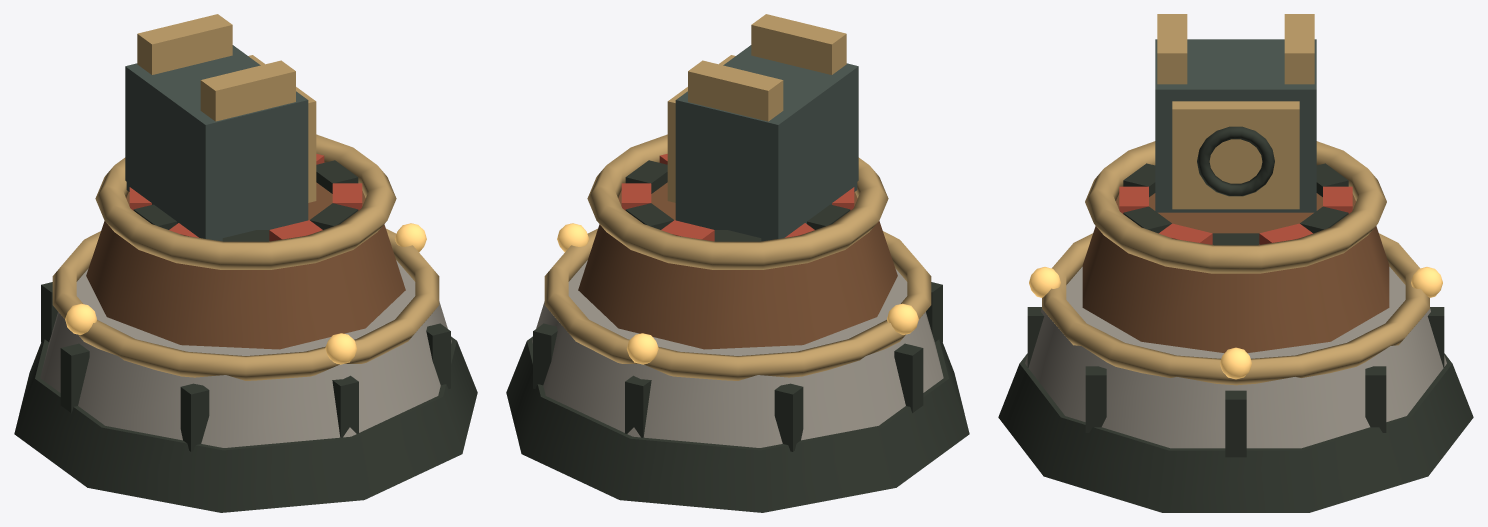
The model's file is tower_gamble_gambleBank.glb.
The picture shows the model from 3 angles, left to right: view 1: azimuth 30°, elevation 25°; view 2: azimuth 150°, elevation 25°; view 3: azimuth 270°, elevation 25°; orthographic projection.
Visible parts, largest first — view 1: foot_0, stone_1, table_15, vault_29, rim_2, roulette_rim_16, vault_crown_32, vault_crown_33, mortar_6, mortar_7, mortar_5, mortar_4 (+10 smaller); view 2: foot_0, stone_1, table_15, vault_29, rim_2, roulette_rim_16, vault_crown_32, vault_crown_33, mortar_8, mortar_7, mortar_9, mortar_10 (+10 smaller); view 3: foot_0, stone_1, table_15, roulette_rim_16, rim_2, vault_29, vault_door_30, safe_lock_31, vault_crown_32, vault_crown_33, mortar_3, mortar_4 (+15 smaller).
Boxes of the visible parts, box(x1,y1,x2,y2) form: foot_0: box(14, 336, 477, 512); stone_1: box(40, 260, 451, 447); table_15: box(86, 182, 405, 349); vault_29: box(125, 45, 308, 241); rim_2: box(52, 228, 439, 380); roulette_rim_16: box(95, 134, 396, 269); vault_crown_32: box(200, 60, 295, 121); vault_crown_33: box(137, 14, 232, 74); mortar_6: box(180, 383, 209, 451); mortar_7: box(60, 343, 89, 412); mortar_5: box(332, 375, 358, 437); mortar_4: box(426, 323, 450, 388); foot_0: box(506, 336, 969, 512); stone_1: box(532, 260, 943, 447); table_15: box(578, 182, 897, 349); vault_29: box(675, 45, 858, 241); rim_2: box(544, 228, 931, 380); roulette_rim_16: box(587, 134, 888, 269); vault_crown_32: box(751, 14, 846, 74); vault_crown_33: box(688, 60, 783, 121); mortar_8: box(774, 383, 803, 451); mortar_7: box(894, 343, 923, 412); mortar_9: box(625, 375, 651, 437); mortar_10: box(533, 323, 557, 388); foot_0: box(998, 353, 1473, 512); stone_1: box(1025, 267, 1446, 448); table_15: box(1082, 193, 1389, 353); roulette_rim_16: box(1085, 141, 1386, 273); rim_2: box(1042, 233, 1429, 385); vault_29: box(1155, 39, 1316, 212); vault_door_30: box(1172, 101, 1299, 209); safe_lock_31: box(1197, 126, 1274, 196); vault_crown_32: box(1157, 14, 1187, 84); vault_crown_33: box(1284, 14, 1314, 84); mortar_3: box(1225, 390, 1246, 457); mortar_4: box(1085, 366, 1106, 432).
Size of the model in its own units: 0.5326 by 0.48 by 0.56.
